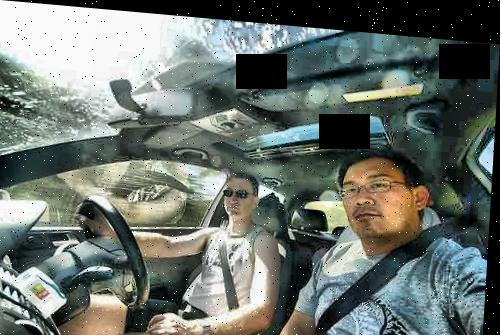seatbelt: (306, 191, 468, 335), (204, 208, 263, 316)
